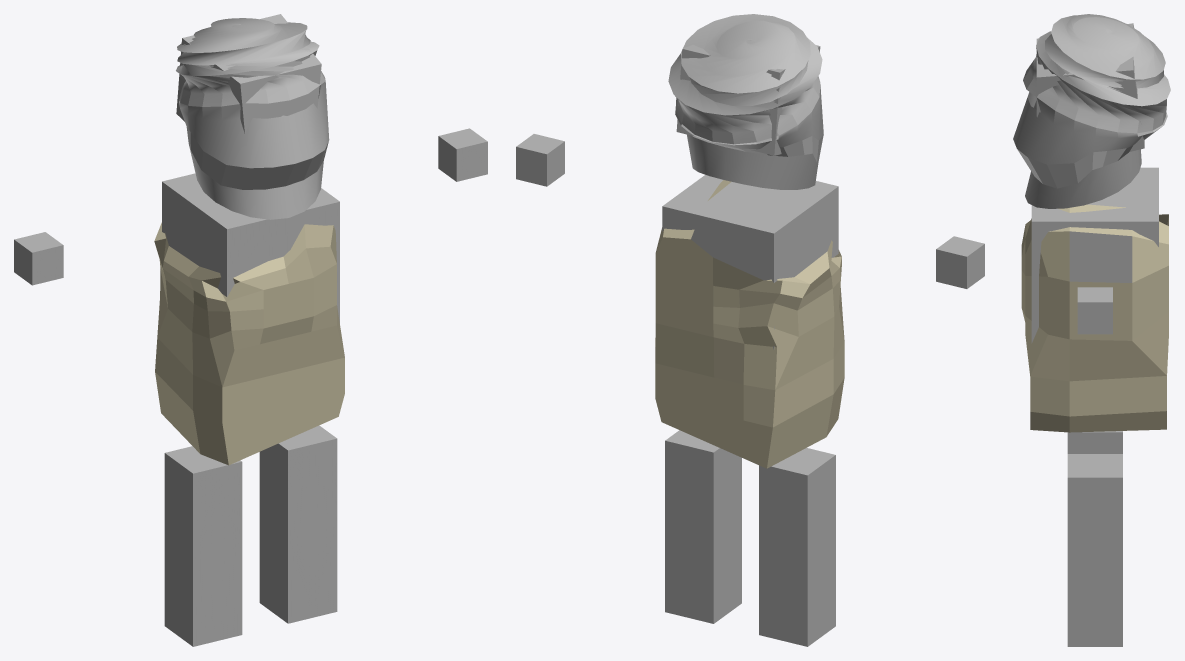
The model's file is enemy_one.fbx.
The picture shows the model from 3 angles, left to right: view 1: azimuth 30°, elevation 25°; view 2: azimuth 150°, elevation 25°; view 3: azimuth 270°, elevation 25°; orthographic projection. The views are drawn at different scales.
Visible parts, largest first — view 1: pCube8, pCube10, pPipe1; view 2: pCube8, pCube10, pPipe1; view 3: pCube10, pCube8, pPipe1.
Boxes of the visible parts, x1,y1,x2,y2 form: pCube8: (14, 14, 487, 646); pCube10: (154, 222, 344, 465); pPipe1: (176, 18, 329, 219); pCube8: (516, 45, 984, 646); pCube10: (655, 180, 844, 468); pPipe1: (668, 14, 823, 189); pCube10: (1021, 204, 1168, 432); pCube8: (1031, 23, 1158, 646); pPipe1: (1013, 14, 1170, 208).
Size of the model in its own units: 4.03 by 5.05 by 1.24.
